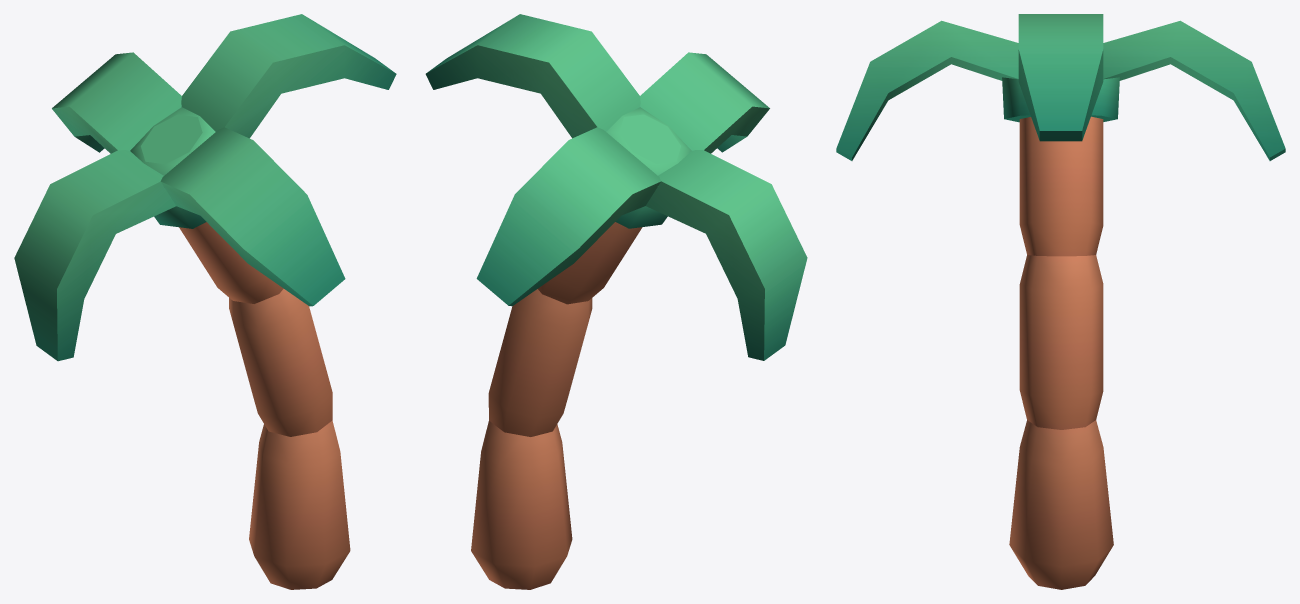
File: palm-bend.glb
3 renders of one model, left to right at view 1: azimuth 30°, elevation 25°; view 2: azimuth 150°, elevation 25°; view 3: azimuth 270°, elevation 25°, orthographic.
Visible parts, largest first — view 1: palm-bend; view 2: palm-bend; view 3: palm-bend.
Boxes of the visible parts, left/top/right/bottom form: palm-bend: left=14, top=14, right=396, bottom=589; palm-bend: left=425, top=14, right=807, bottom=589; palm-bend: left=836, top=14, right=1285, bottom=589.
Size of the model in its own units: 2.88 by 4.25 by 3.22.
1 material, 1 textured.
